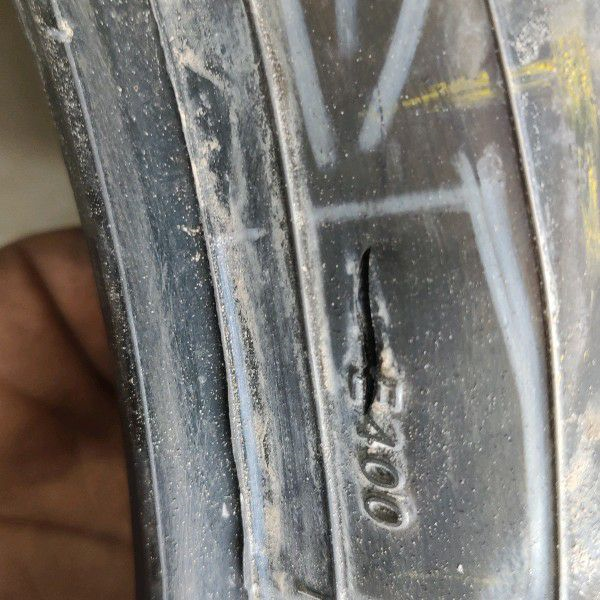cut: (346, 242, 387, 424)
